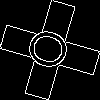O: (25, 25, 80, 76)
